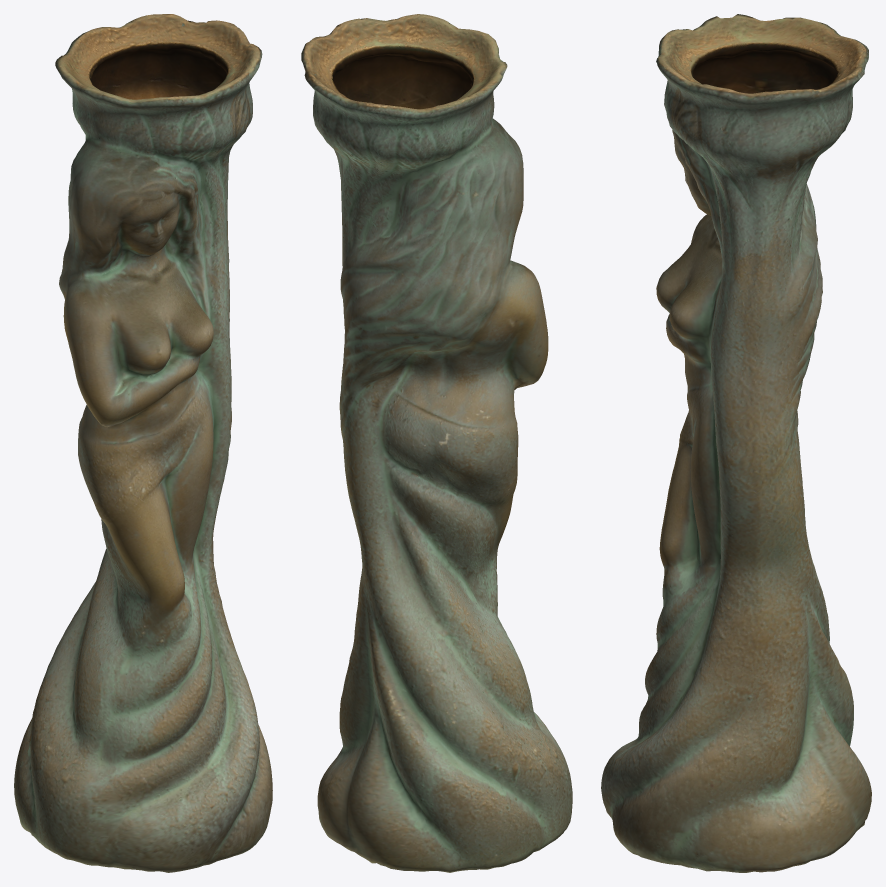
The model's file is obj_antique_vase_a066f5.glb.
The picture shows the model from 3 angles, left to right: view 1: azimuth 30°, elevation 25°; view 2: azimuth 150°, elevation 25°; view 3: azimuth 270°, elevation 25°; orthographic projection. The views are drawn at different scales.
Visible parts, largest first — view 1: obj_antique_vase_a066f5; view 2: obj_antique_vase_a066f5; view 3: obj_antique_vase_a066f5.
Boxes of the visible parts, x1,y1,x2,y2 form: obj_antique_vase_a066f5: (14,14,272,872); obj_antique_vase_a066f5: (301,14,572,872); obj_antique_vase_a066f5: (601,14,871,872).
Size of the model in its own units: 0.0611 by 0.2 by 0.0616.
Materials: 1 (1 with a texture image).
